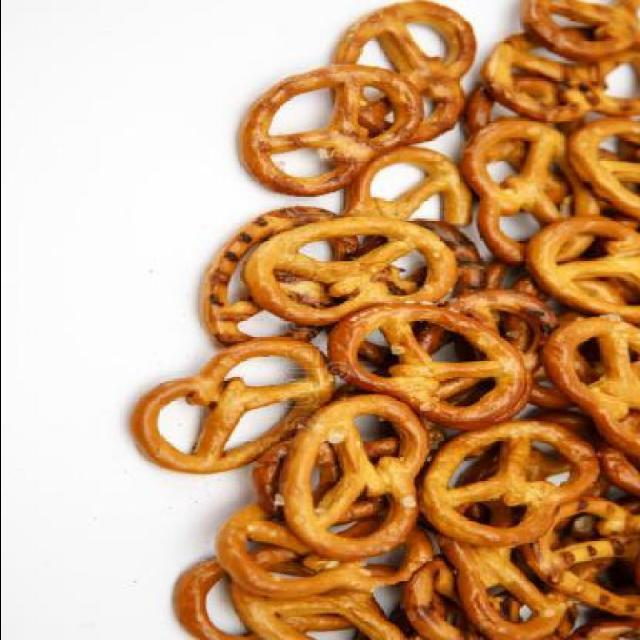Salatini packaged: (127, 6, 630, 640)
